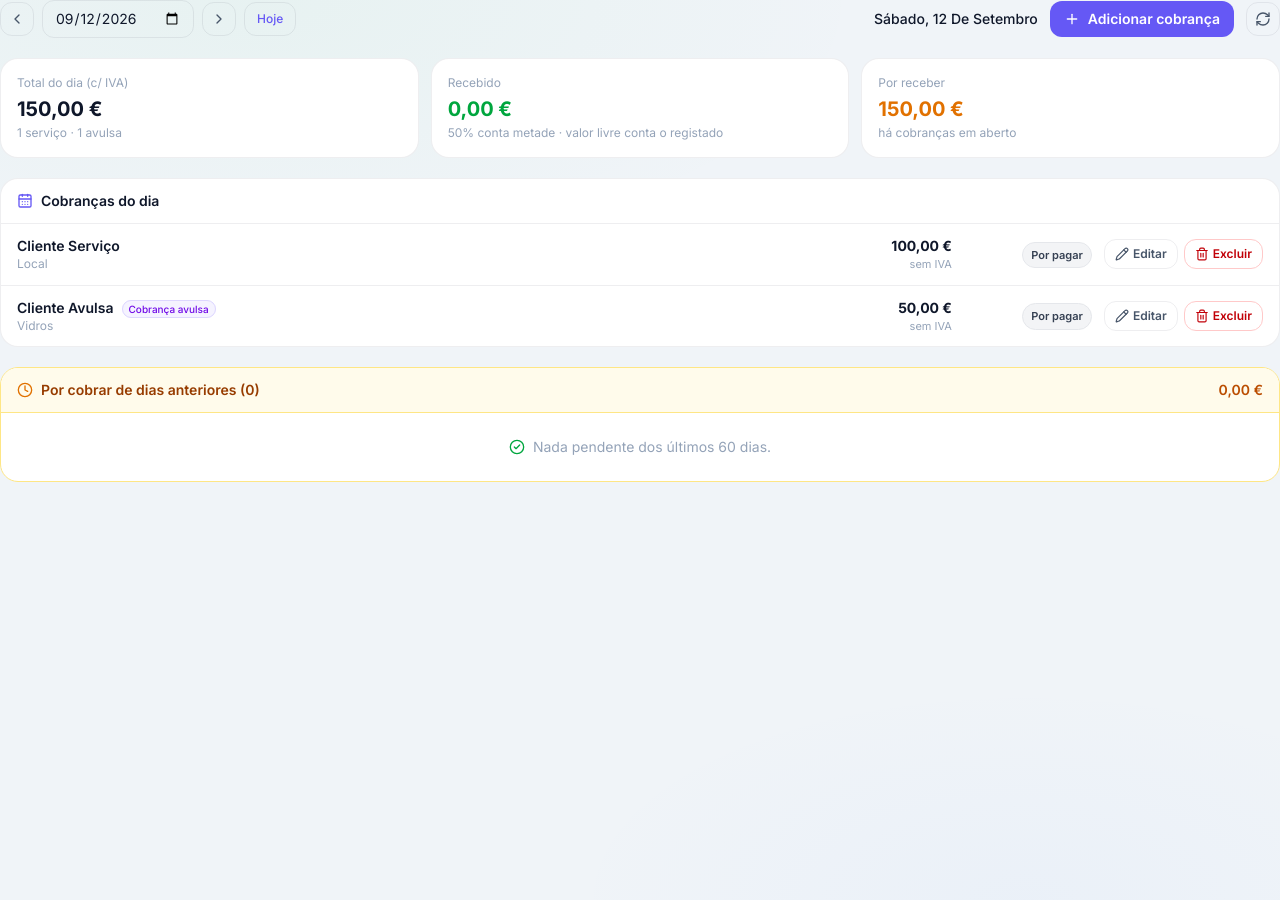
Scenario: excluir › 🔴 defesa em profundidade: recebimento que chega com o diálogo ABERTO tira a confirmação
This screenshot has width=1280, height=900.
Click the button "Excluir" in the row of "Cobrança avulsa". click: coordinates (1223, 316)
box: left=1184, top=301, right=1263, bottom=331
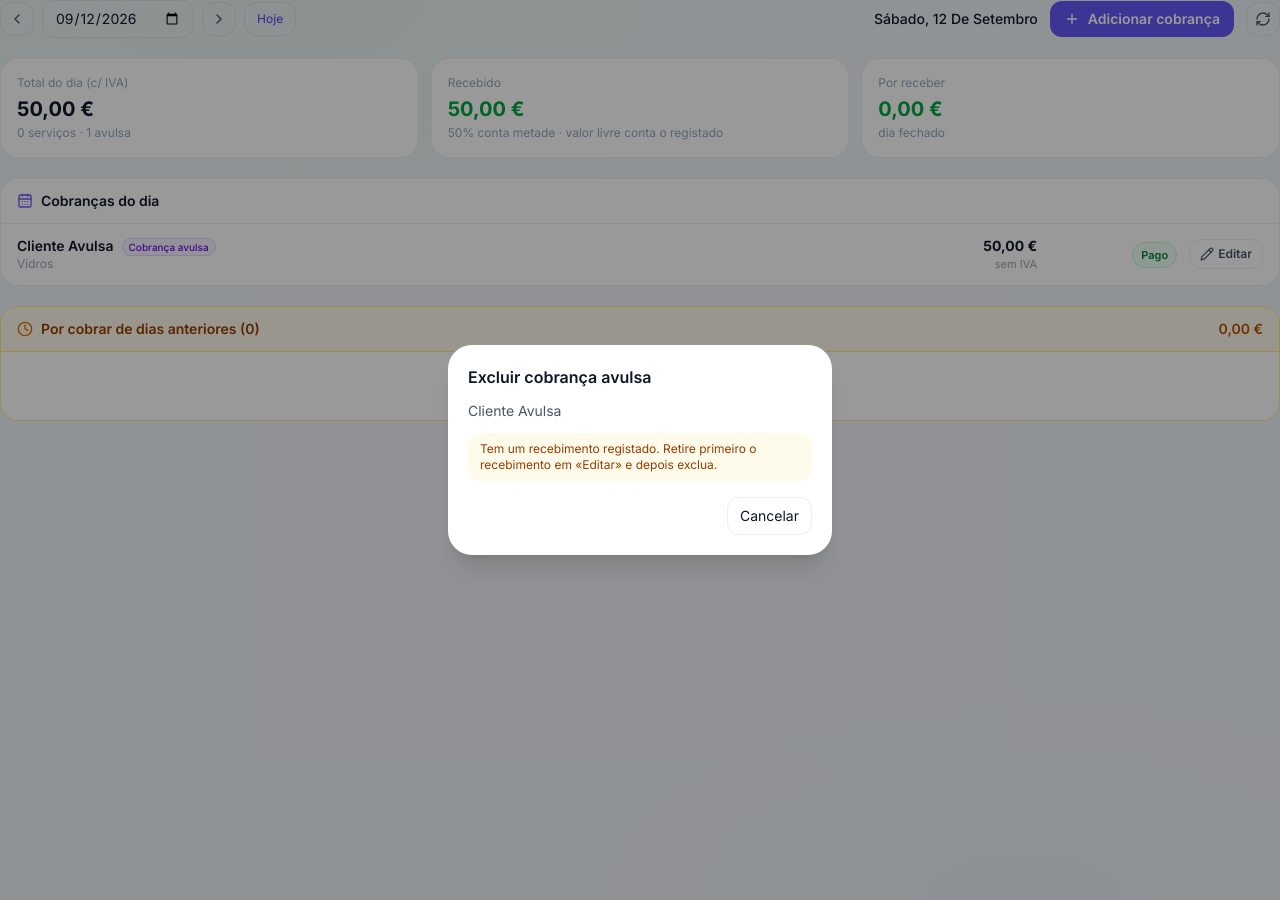
Expected: the dialog shows "Retire primeiro o recebimento", left=480, top=441, right=756, bottom=472
